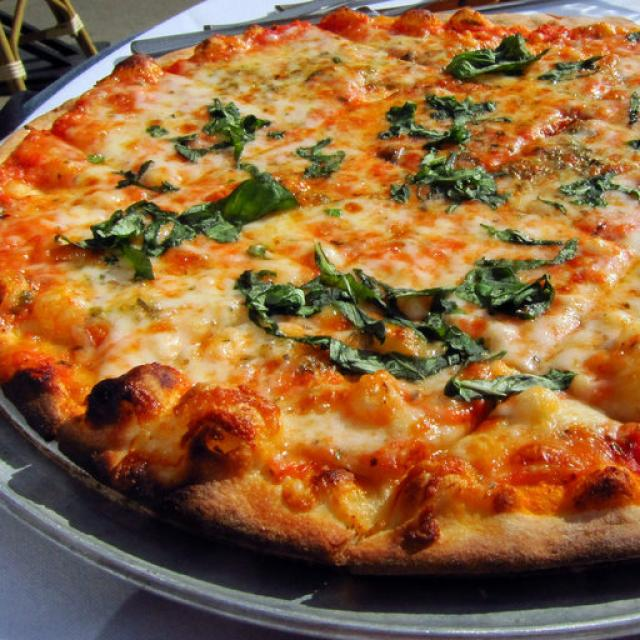Basil: (265, 240, 403, 340), (461, 242, 596, 318), (314, 323, 444, 379), (164, 182, 255, 258), (84, 198, 175, 267), (205, 165, 300, 227), (456, 353, 576, 402), (404, 298, 492, 363), (406, 152, 506, 208), (196, 96, 277, 165), (242, 264, 314, 332), (442, 34, 542, 82), (484, 219, 564, 253), (383, 102, 441, 147), (307, 134, 352, 184), (568, 171, 618, 207), (396, 284, 464, 310), (414, 122, 469, 154), (542, 54, 599, 83), (439, 97, 497, 125), (153, 120, 184, 142)
Pizza: (0, 9, 640, 571)
